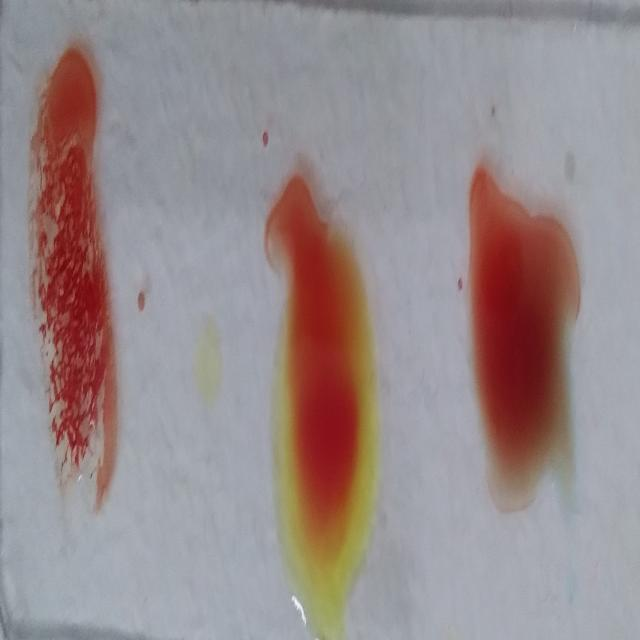D: (27, 51, 120, 497)
